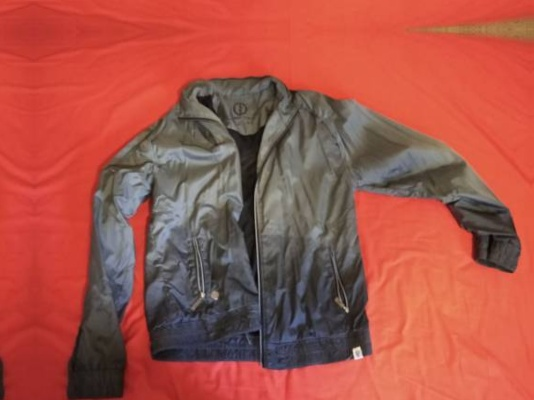Blazer: (38, 84, 515, 400), (0, 86, 31, 400)
